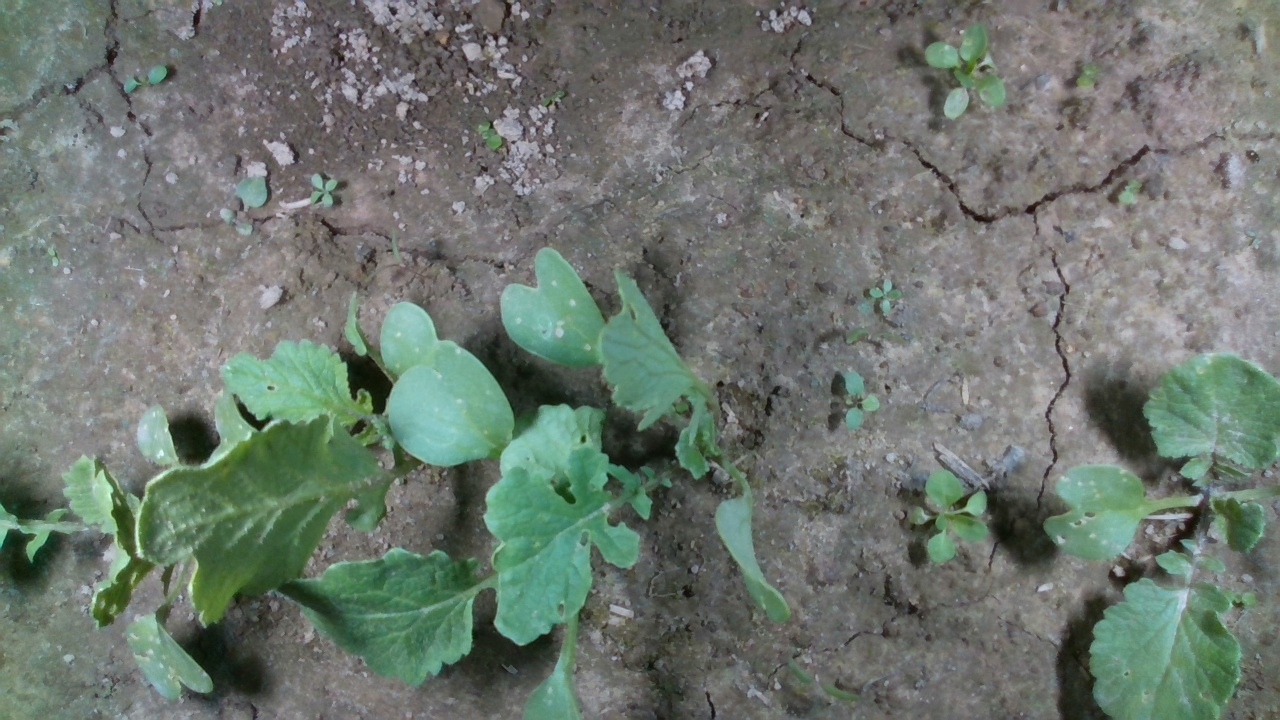weed: (113, 60, 183, 96), (302, 172, 353, 209), (465, 123, 515, 151), (864, 273, 898, 308)
